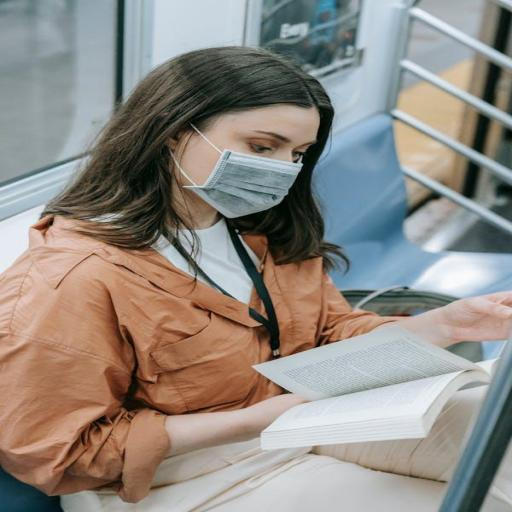mask: (144, 70, 324, 220)
